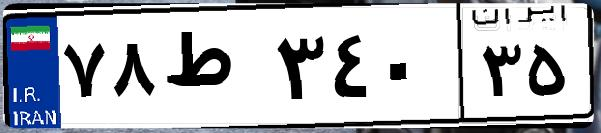0: (385, 28, 445, 110)
3: (270, 28, 330, 110), (475, 38, 525, 113)
4: (330, 28, 385, 110)
5: (525, 38, 570, 115)
7: (57, 26, 110, 100)
8: (110, 28, 158, 98)
ط: (158, 20, 270, 120)
